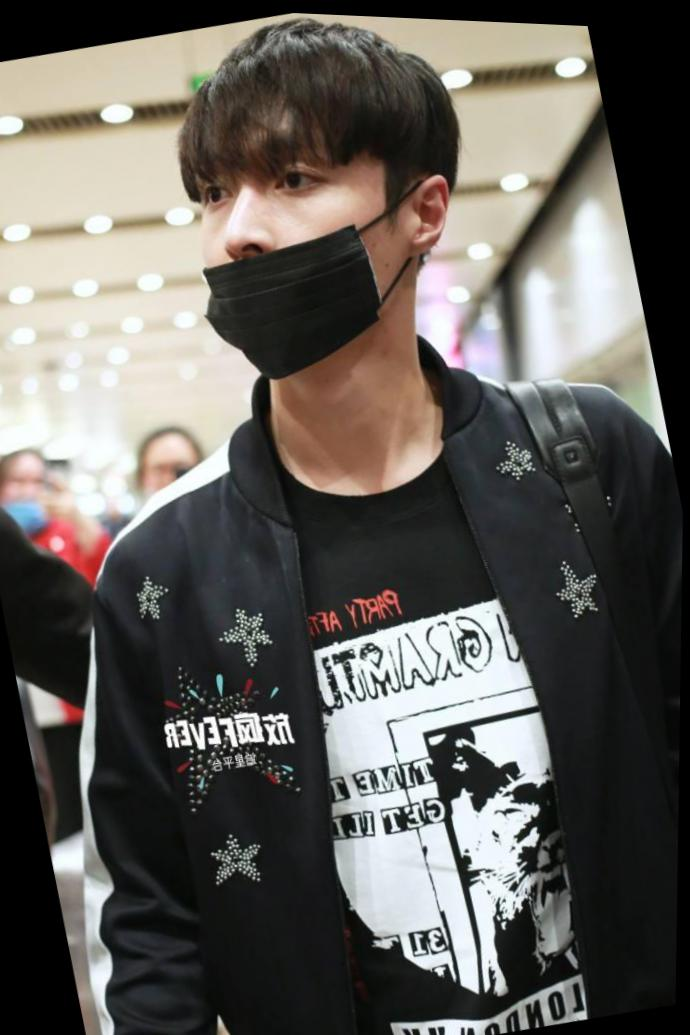WRONG: (170, 84, 418, 386), (1, 460, 60, 536)
